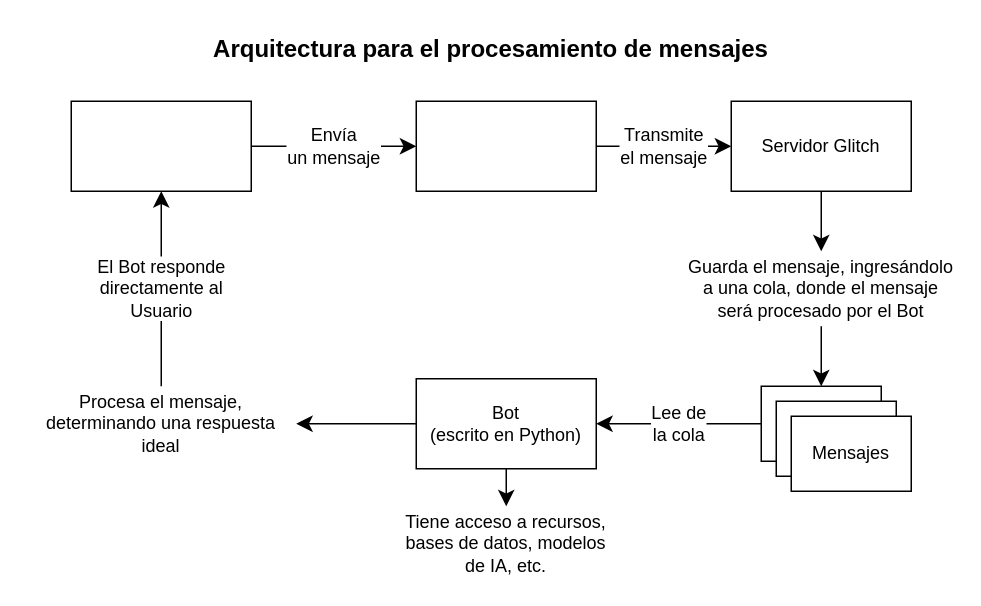
Some shapes in this 981 by 606 pixel diagram are drawn without their labels. The shapes that lost their labels are listed below. From the top down, each one's box as (x1, y1, x2, y2) in pixels, then its label:
(70, 100, 251, 191): Usuario
(415, 100, 596, 191): Cuenta de WhatsApp de la empresa
